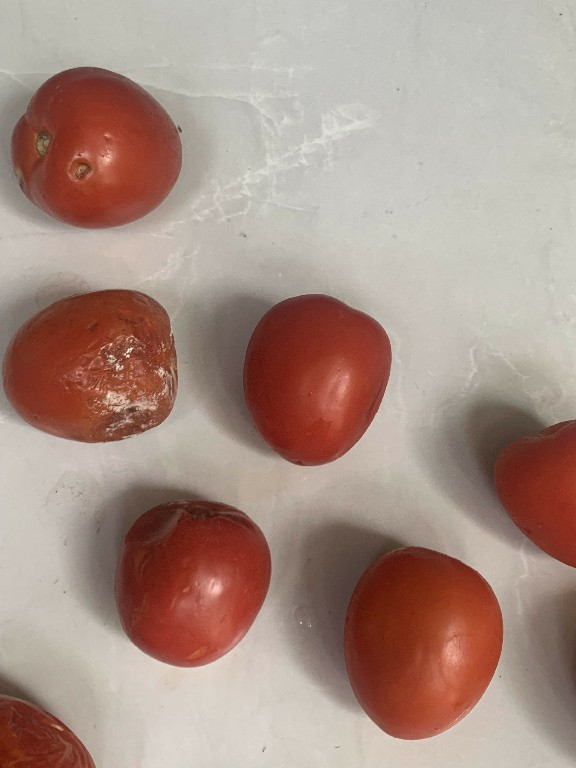NG: (102, 489, 282, 681), (10, 56, 192, 241), (4, 277, 186, 452)
OK: (335, 527, 513, 750), (227, 270, 392, 485)
